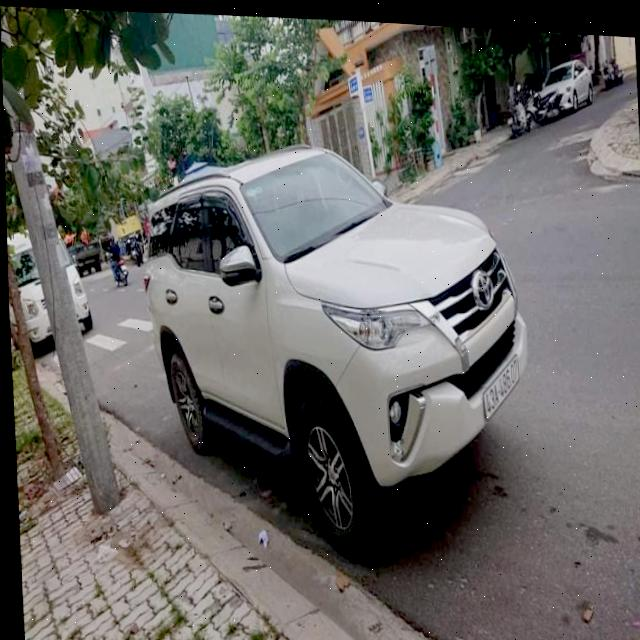car: (132, 142, 551, 572)
motorcycle: (106, 258, 134, 289)
plate: (478, 350, 526, 424)
